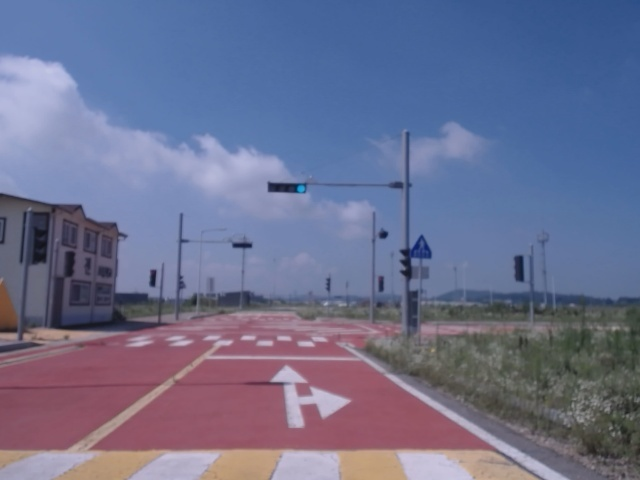straight_green_4: (268, 182, 307, 194)
